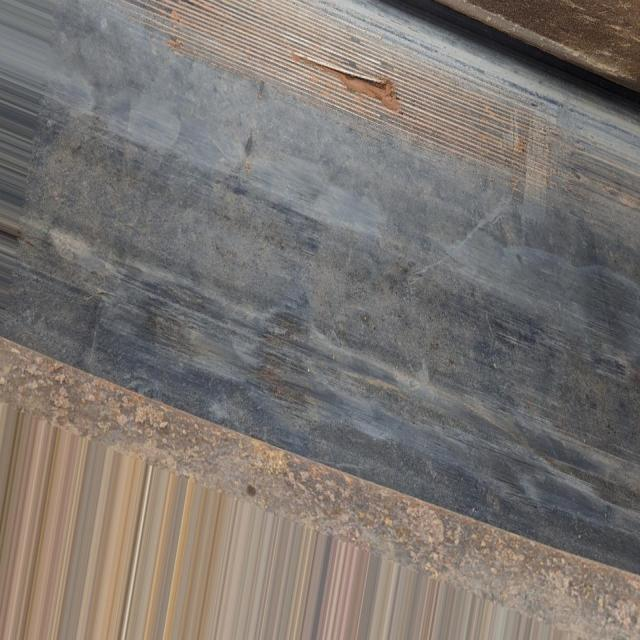impact damage: (169, 0, 534, 160)
